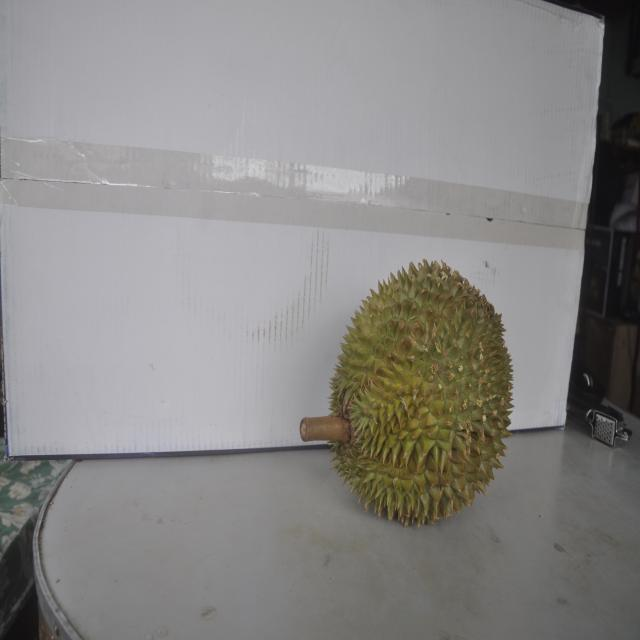mature: (326, 256, 514, 527)
